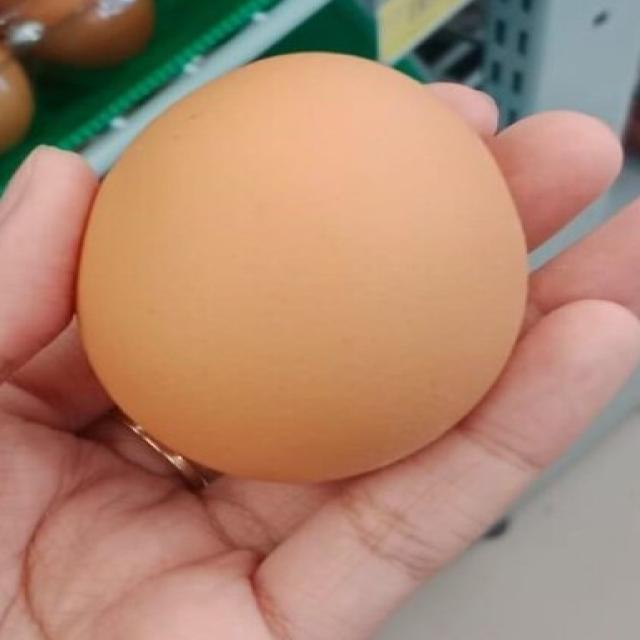fresh: (76, 46, 528, 478)
